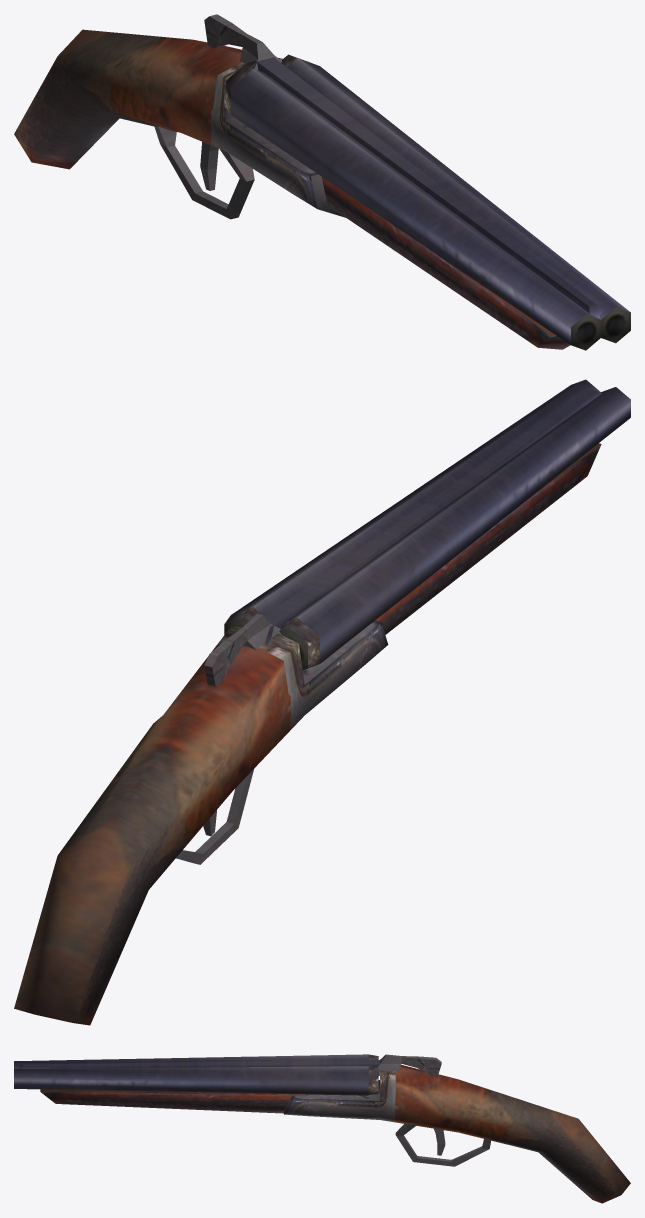
File: Double_Barrel_fbx.fbx
The picture shows the model from 3 angles, top to bottom: view 1: azimuth 30°, elevation 25°; view 2: azimuth 150°, elevation 25°; view 3: azimuth 270°, elevation 25°; orthographic projection. The views are drawn at different scales.
Visible parts, largest first — view 1: Barrels, Body, Trigger; view 2: Body, Barrels; view 3: Body, Barrels.
Boxes of the visible parts, x1,y1,x2,y2 form: Barrels: (224, 54, 630, 350); Body: (14, 14, 345, 219); Trigger: (200, 141, 218, 190); Body: (14, 614, 388, 1025); Barrels: (224, 379, 630, 670); Body: (284, 1054, 630, 1203); Barrels: (14, 1054, 379, 1113).
Bounding box in the file's own units: 44.66 × 127 × 491.
Materials: 1 (1 with a texture image).
